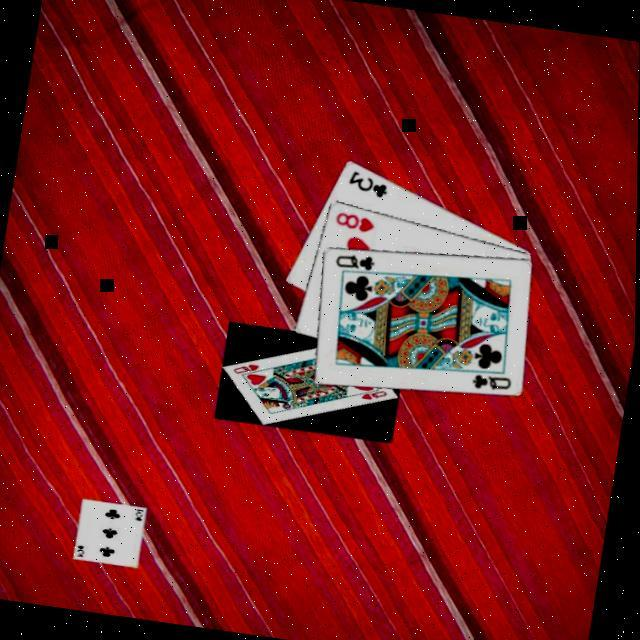3C: (343, 169, 391, 203)
8H: (331, 210, 378, 238)
QC: (468, 371, 514, 398), (332, 250, 378, 276)
